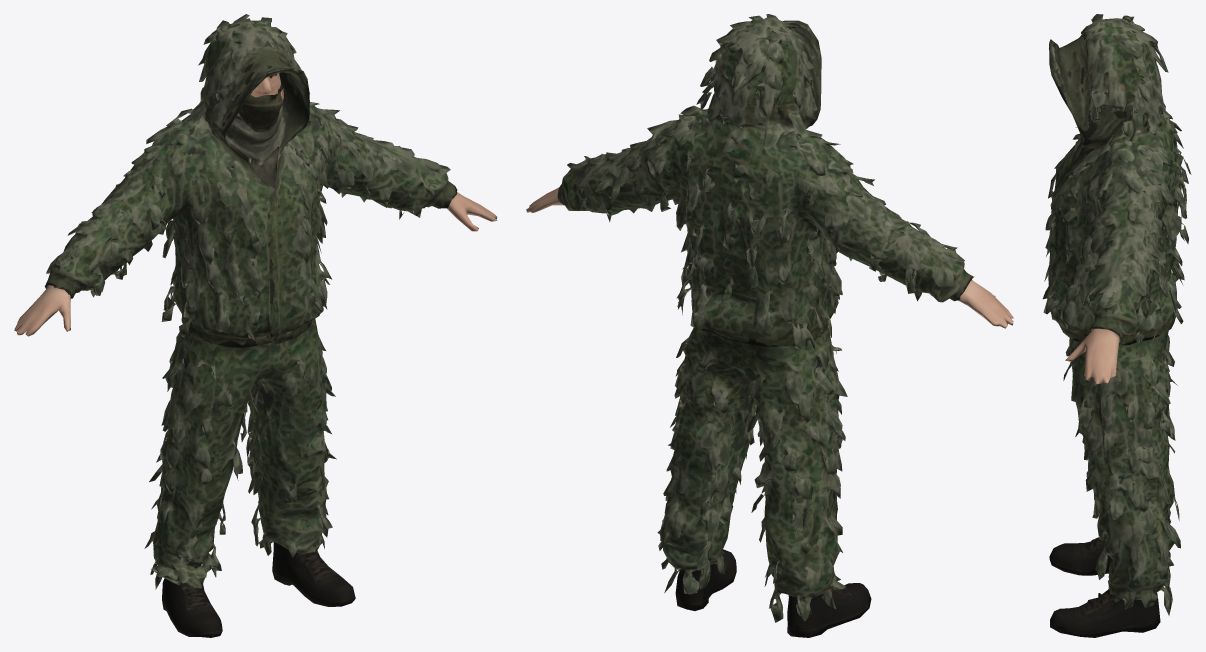
Rendered from sol_sniper.glb.
3 views of the same model, side by side, from view 1: azimuth 30°, elevation 25°; view 2: azimuth 150°, elevation 25°; view 3: azimuth 270°, elevation 25° (orthographic).
Size of the model in its own units: 0.8604 by 0.9958 by 0.2329.
1 material, 1 textured.
